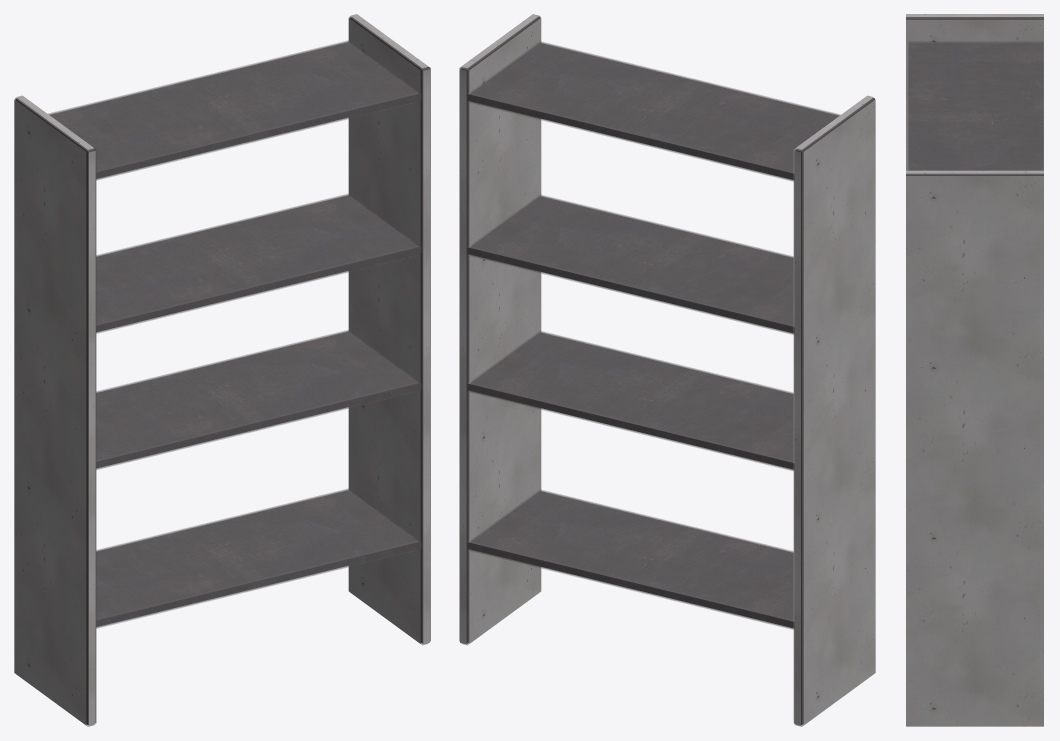
The model's file is shelf.glb.
The picture shows the model from 3 angles, left to right: view 1: azimuth 30°, elevation 25°; view 2: azimuth 150°, elevation 25°; view 3: azimuth 270°, elevation 25°; orthographic projection. The views are drawn at different scales.
Parts seen in each view (by area): view 1: Object_2, Object_4, Object_3; view 2: Object_2, Object_4, Object_3; view 3: Object_3, Object_2, Object_4.
Part boxes in pixels (x1,y1,x2,y2): Object_2: (16,17,428,724); Object_4: (48,40,421,628); Object_3: (14,14,430,726); Object_2: (461,17,873,724); Object_4: (467,41,840,629); Object_3: (459,14,875,726); Object_3: (906,14,1043,726); Object_2: (906,17,1043,175); Object_4: (908,41,1043,170).
Size of the model in its own units: 4.06 by 6.5 by 1.51.
3 materials, 2 textured.
